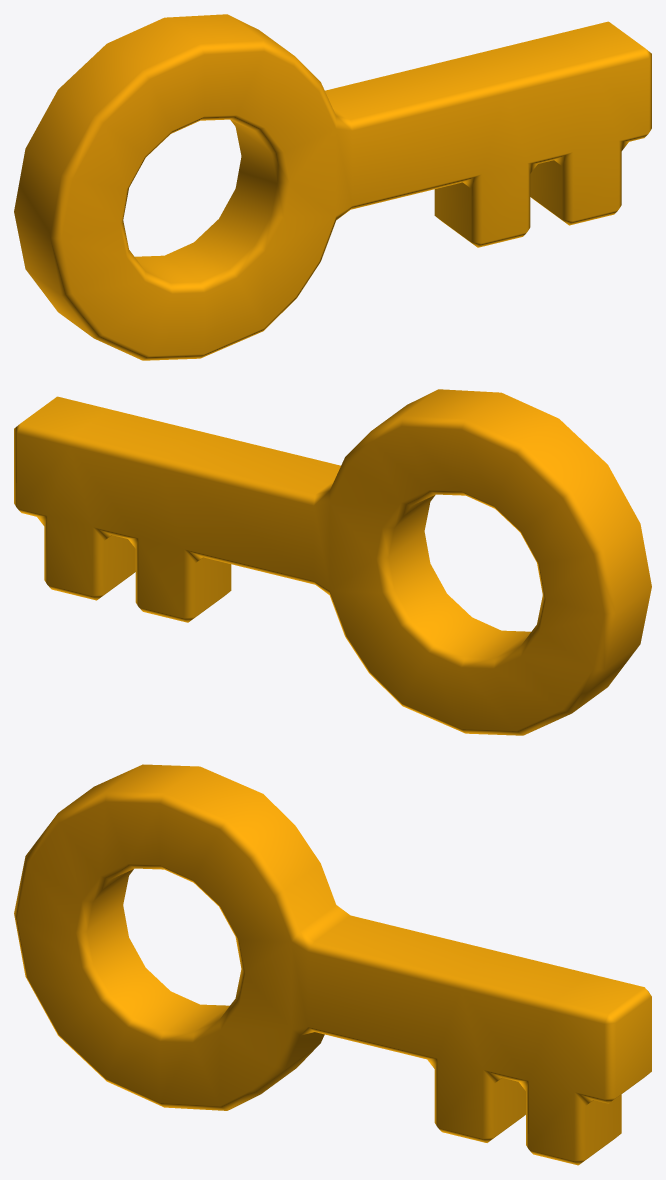
The model's file is key_001.fbx.
3 views of the same model, one above another, from view 1: azimuth 30°, elevation 25°; view 2: azimuth 150°, elevation 25°; view 3: azimuth 330°, elevation 25° (orthographic).
Parts seen in each view (by area): view 1: key_001; view 2: key_001; view 3: key_001.
Part boxes in pixels (x1,y1,x2,y2): key_001: [14, 14, 651, 360]; key_001: [14, 389, 651, 735]; key_001: [14, 764, 651, 1165].
Bounding box in the file's own units: 129 × 16.47 × 64.41.
